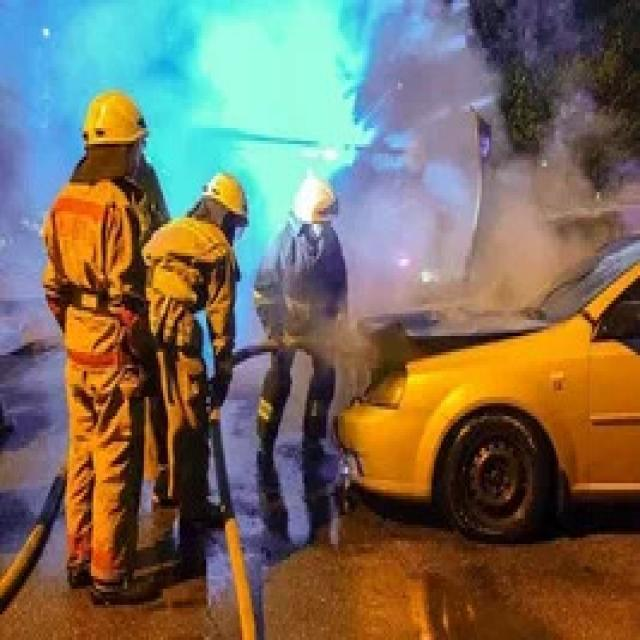Smoke: (428, 150, 592, 336)
